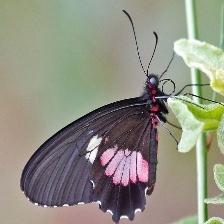butterfly: (21, 75, 168, 224)
